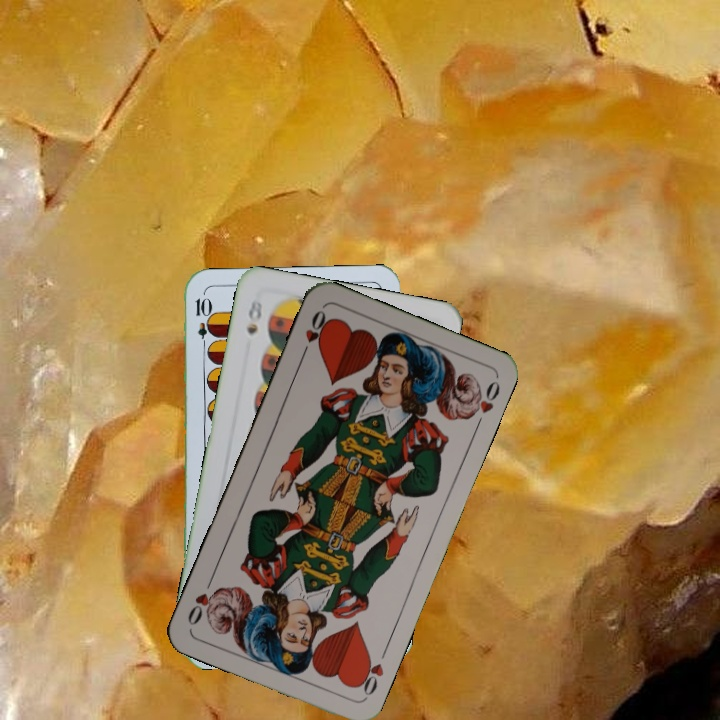E10: (191, 294, 211, 353)
HO: (352, 644, 390, 701), (297, 306, 331, 361)
S8: (242, 294, 265, 338)
